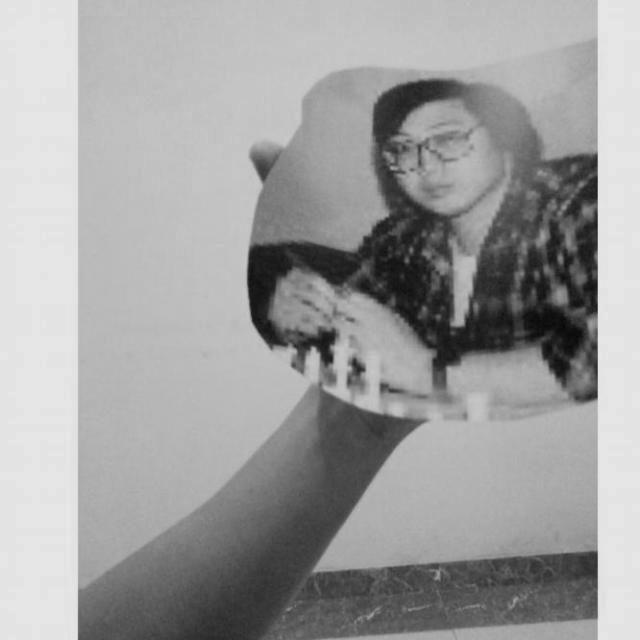fake: (232, 21, 599, 440)
